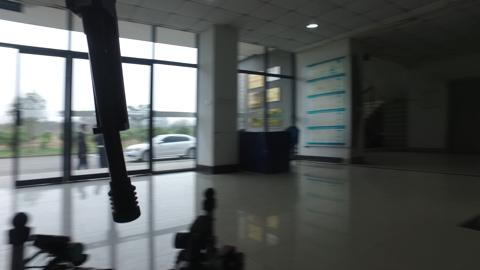chariot: (176, 185, 248, 269)
